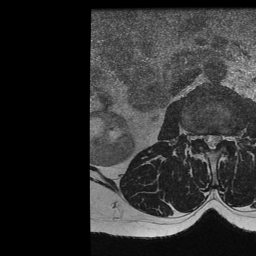CCS_stenosis: (209, 128, 215, 156)
LFS_stenosis: (223, 128, 230, 148)
LLS_normal: (215, 128, 222, 150)
RFS_stenosis: (195, 127, 201, 146)
RLS_stenosis: (201, 128, 209, 149)
